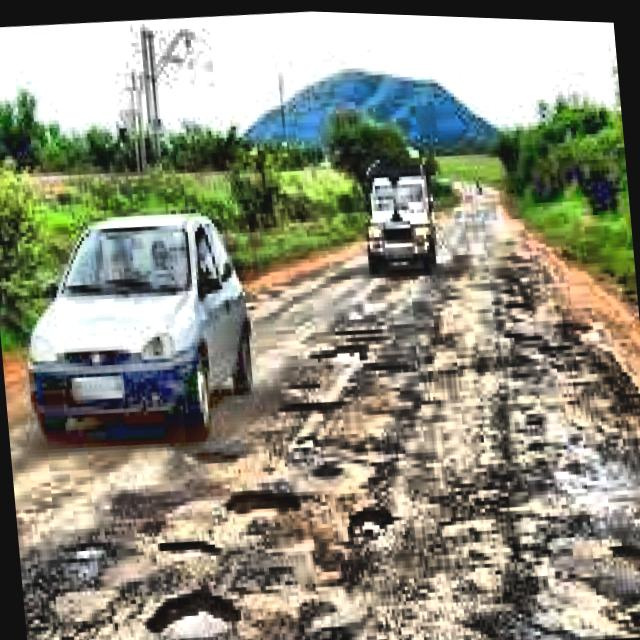pothole: (147, 585, 240, 639), (226, 491, 298, 506)
